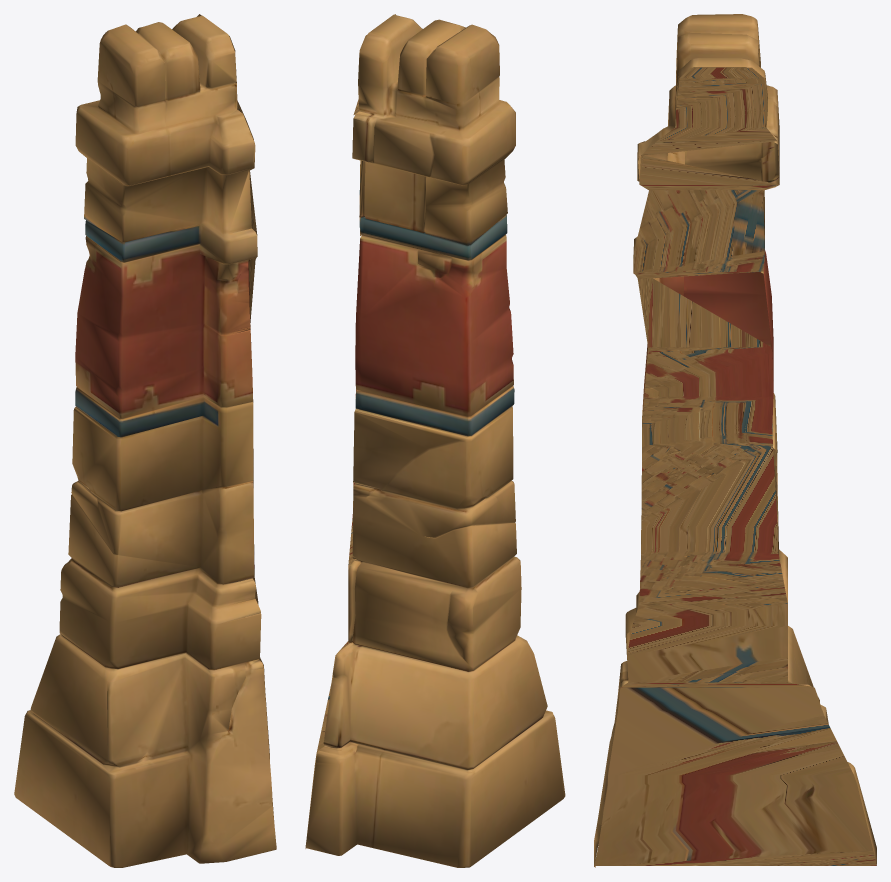
Rendered from SM_Tripo_DesertRampartEndL.glb.
The picture shows the model from 3 angles, left to right: view 1: azimuth 30°, elevation 25°; view 2: azimuth 150°, elevation 25°; view 3: azimuth 270°, elevation 25°; orthographic projection. The views are drawn at different scales.
Visible parts, largest first — view 1: SM_Tripo_DesertRampartEndL_LOD0; view 2: SM_Tripo_DesertRampartEndL_LOD0; view 3: SM_Tripo_DesertRampartEndL_LOD0.
Part boxes in pixels (bbox=[...]): SM_Tripo_DesertRampartEndL_LOD0: bbox=[14, 14, 276, 867]; SM_Tripo_DesertRampartEndL_LOD0: bbox=[305, 14, 565, 867]; SM_Tripo_DesertRampartEndL_LOD0: bbox=[594, 14, 876, 867].
Bounding box in the file's own units: 1.74 × 8.99 × 2.85.
1 material, 1 textured.
